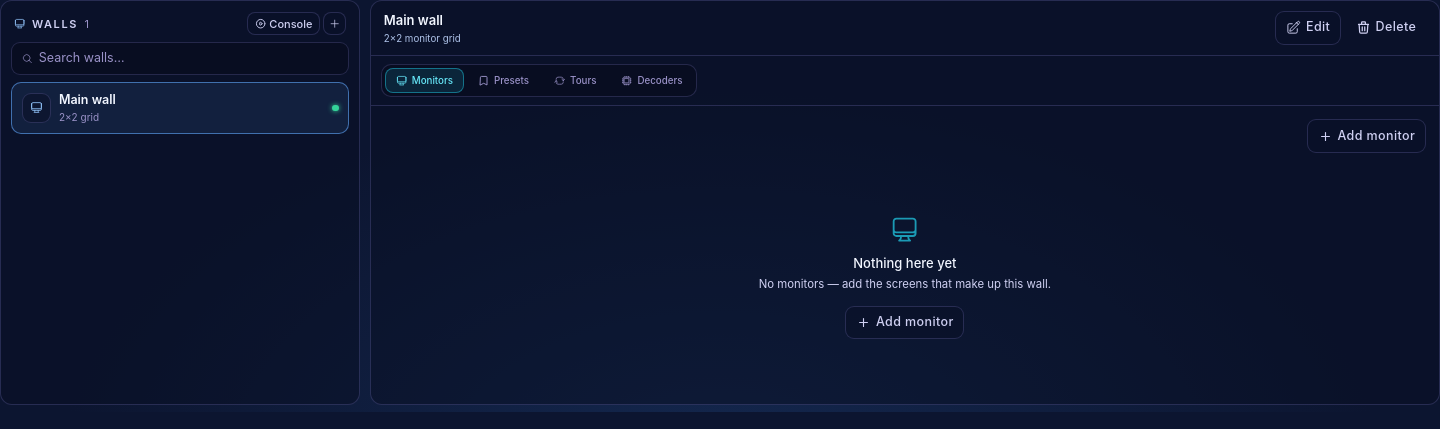
Test: a failed load › distinguishes 'nothing matches your search' from 'nothing exists'
Expected: the button "Main wall 2×2 grid" is shown, left=11, top=82, right=349, bottom=134
In the field with placeholder "Search walls…": (189, 58) left=39, top=49, right=339, bottom=68, type "zzz"
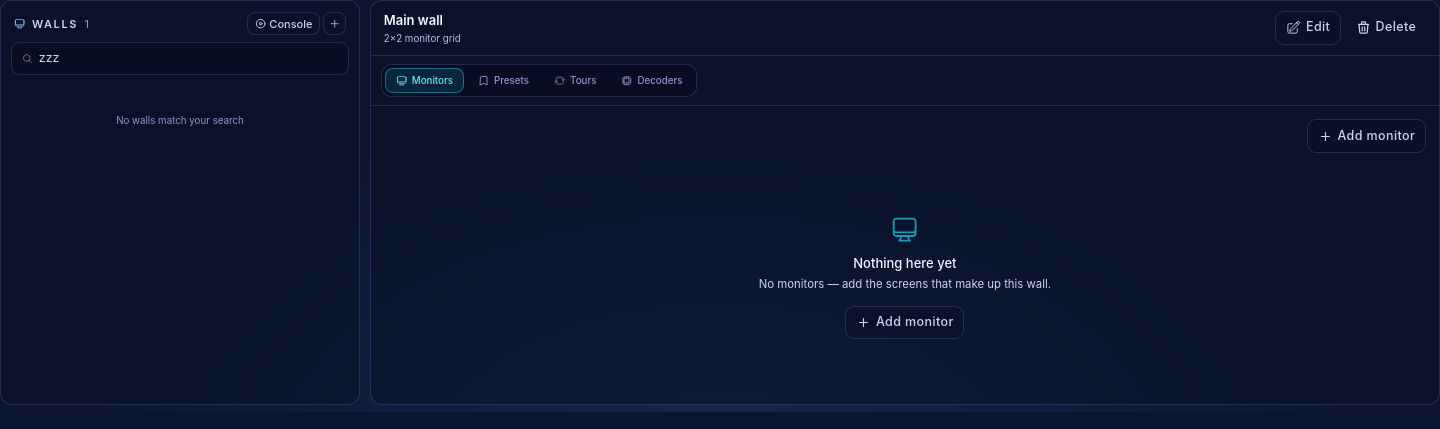
Expected: the text "No walls match your search" is shown, left=116, top=115, right=244, bottom=126
